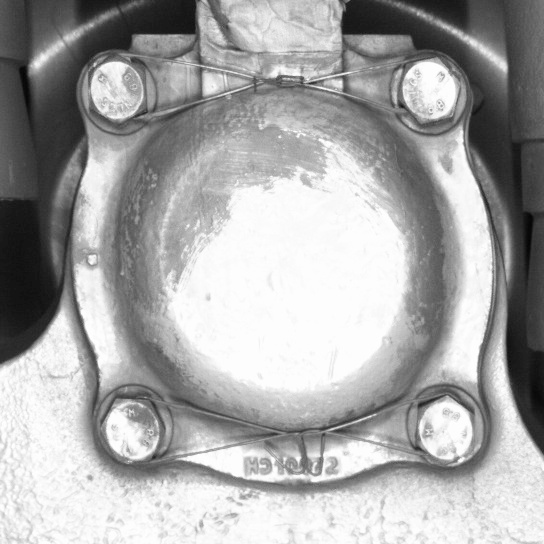IronWire: (82, 42, 467, 138), (93, 385, 484, 477)
Screw: (406, 383, 483, 477), (389, 46, 467, 137), (81, 44, 155, 137), (92, 385, 169, 474)
